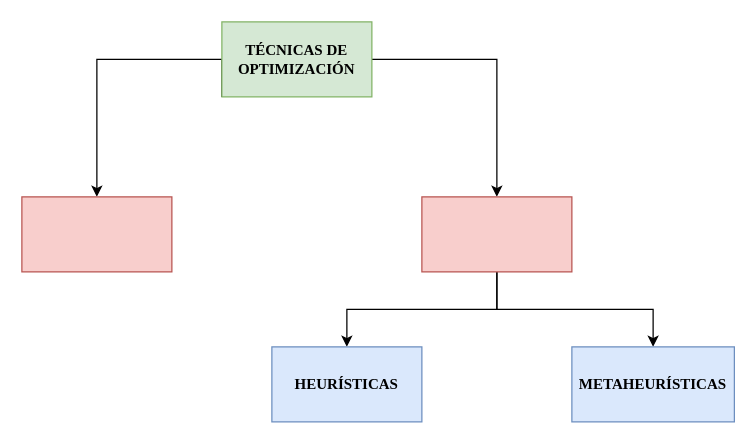
This 756x444 diagram has some shape labels left out. Here are the shapes that lost their labels. From the top down, the centre of each, then its label:
[96,234]: TÉCNICAS EXACTAS
[496,234]: TÉCNICAS APROXIMADAS
